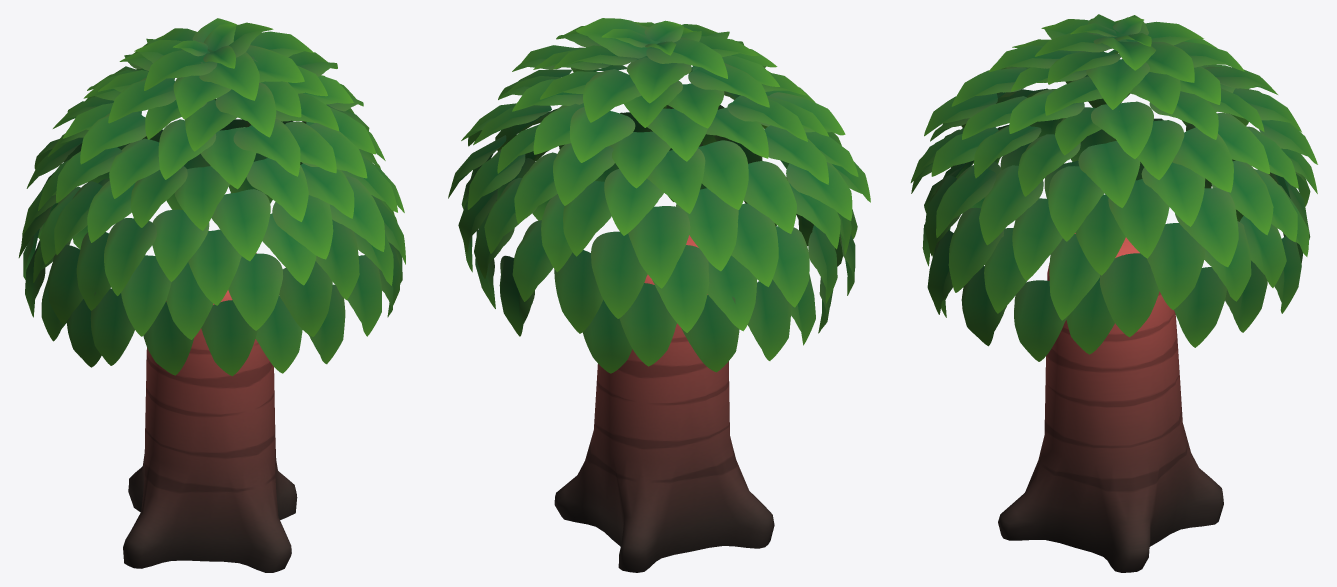
The model's file is Tree_2b.fbx.
3 views of the same model, side by side, from view 1: azimuth 30°, elevation 25°; view 2: azimuth 150°, elevation 25°; view 3: azimuth 270°, elevation 25° (orthographic). The views are drawn at different scales.
Parts seen in each view (by area): view 1: Tree_2b; view 2: Tree_2b; view 3: Tree_2b.
Boxes of the visible parts, left/top/right/bottom form: Tree_2b: left=18, top=18, right=405, bottom=572; Tree_2b: left=448, top=18, right=870, bottom=572; Tree_2b: left=910, top=14, right=1317, bottom=572.
Size of the model in its own units: 48.4 by 64.68 by 48.28.
Materials: 1 (1 with a texture image).
